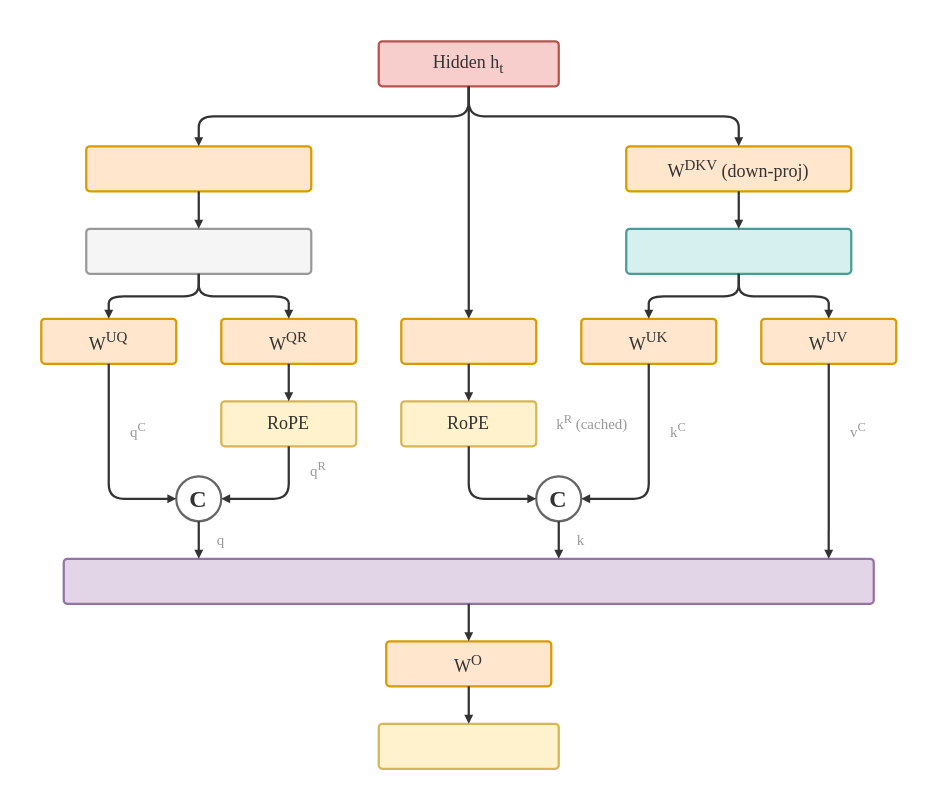
This 936x809 diagram has some shape labels left out. Each missing label, with the centre of its shape:
"Latent c KV (cached)" belongs at point 738,250.
"Latent c Q" belongs at point 198,250.
"Multi-Head Attention" belongs at point 468,580.
"Output u t" belongs at point 468,745.
"W DQ (down-proj)" belongs at point 198,168.
"W KR" belongs at point 468,340.
